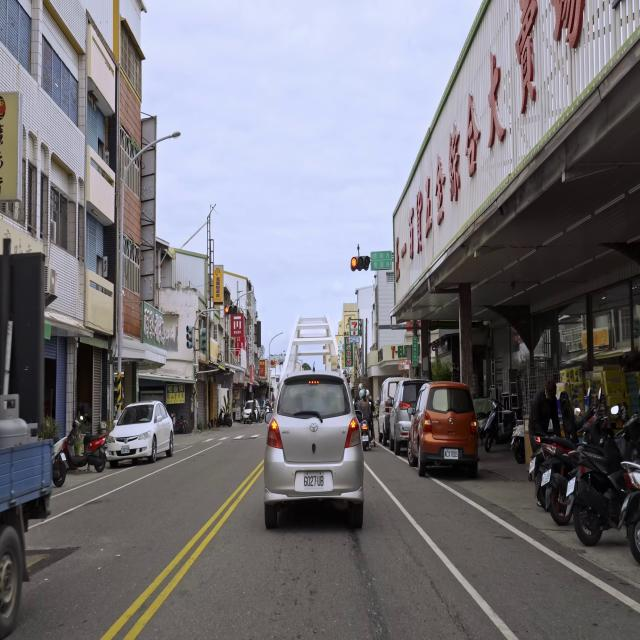red light: (351, 256, 370, 269), (225, 305, 238, 313)
